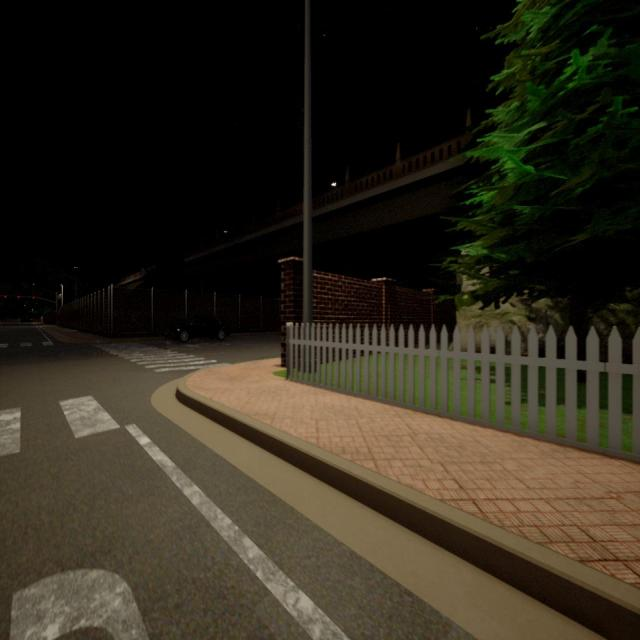Vehicle: (166, 313, 228, 344)
traffic_light: (32, 296, 35, 300), (4, 295, 6, 298), (17, 296, 20, 298)
